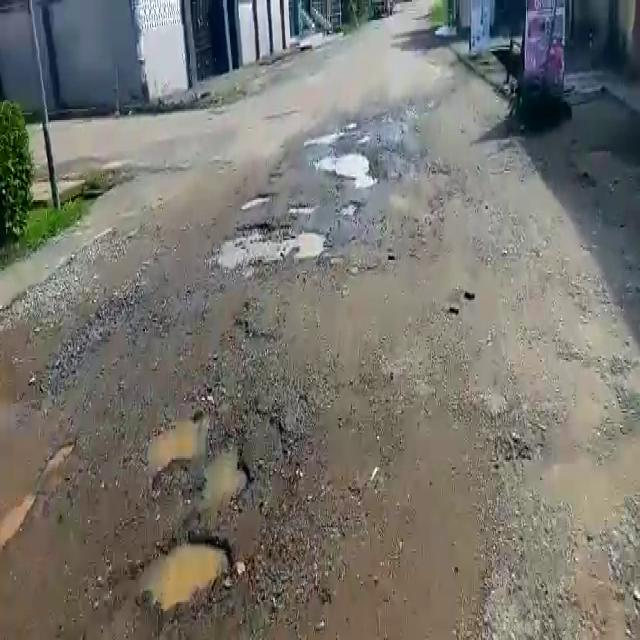Pothole: (139, 420, 258, 500), (136, 532, 236, 617), (216, 227, 326, 270), (314, 147, 377, 183), (241, 193, 275, 212), (290, 202, 320, 215)
